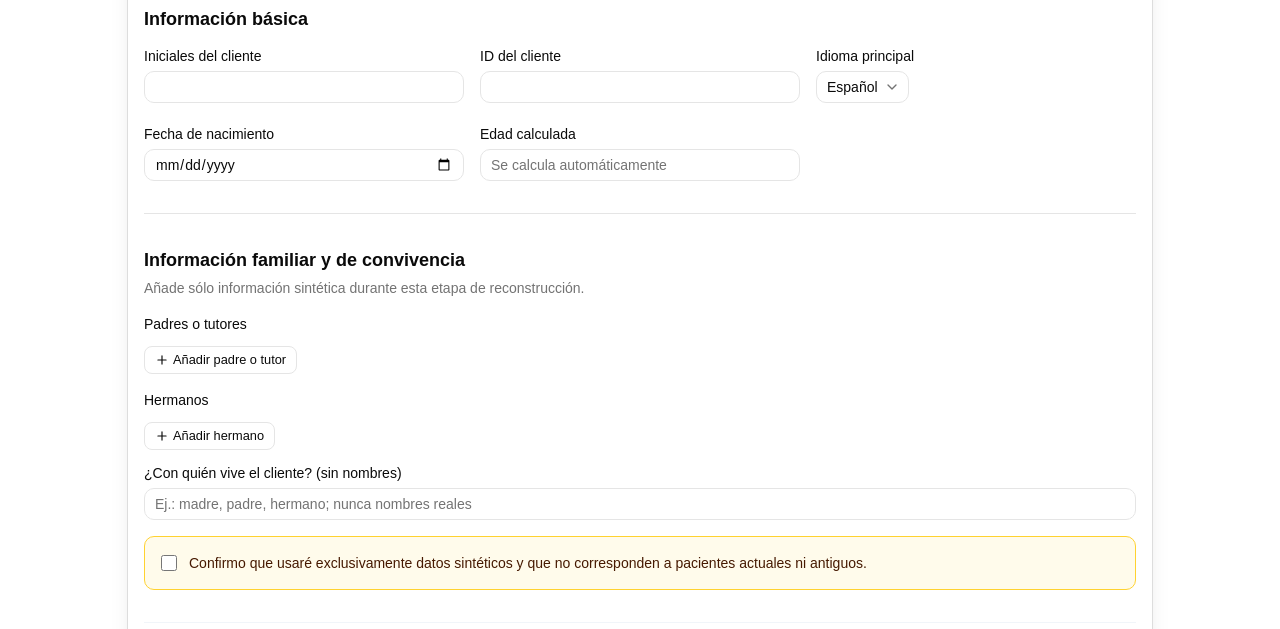
Test: ClientForm › añade tutores y hermanos sin reemplazar los existentes
Click the button "Añadir padre o tutor" at (221, 360), box [144,346,297,374]
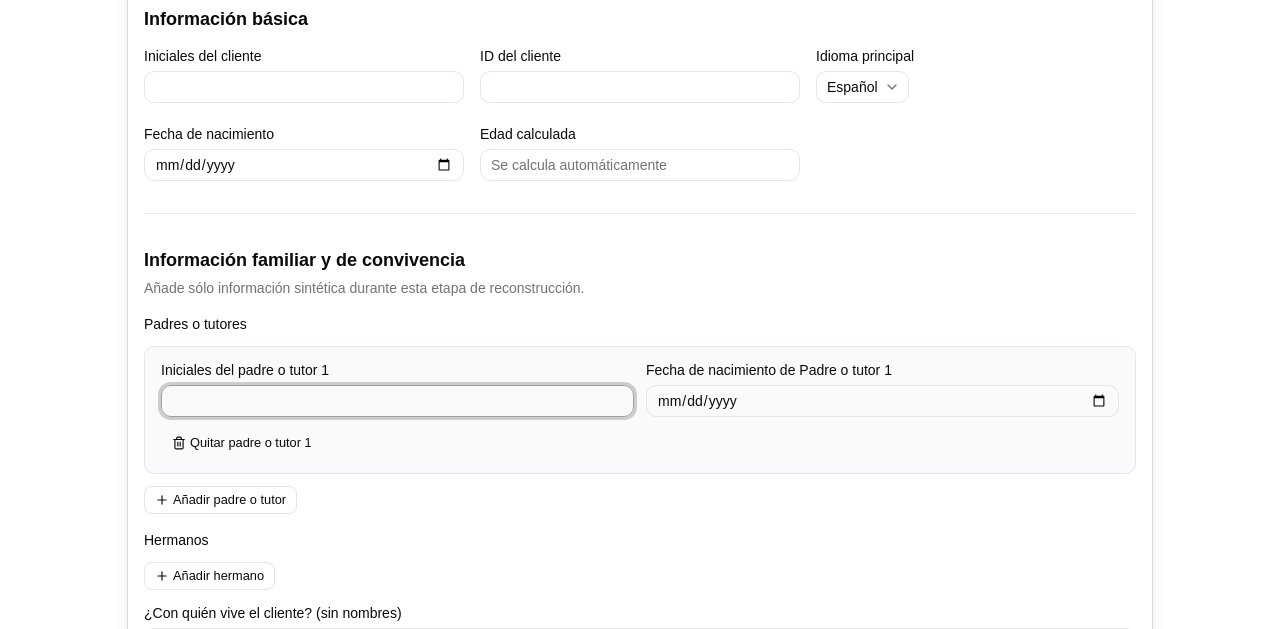
Click the button "Añadir padre o tutor" at (221, 500), box [144,486,297,514]
(page scrolled)
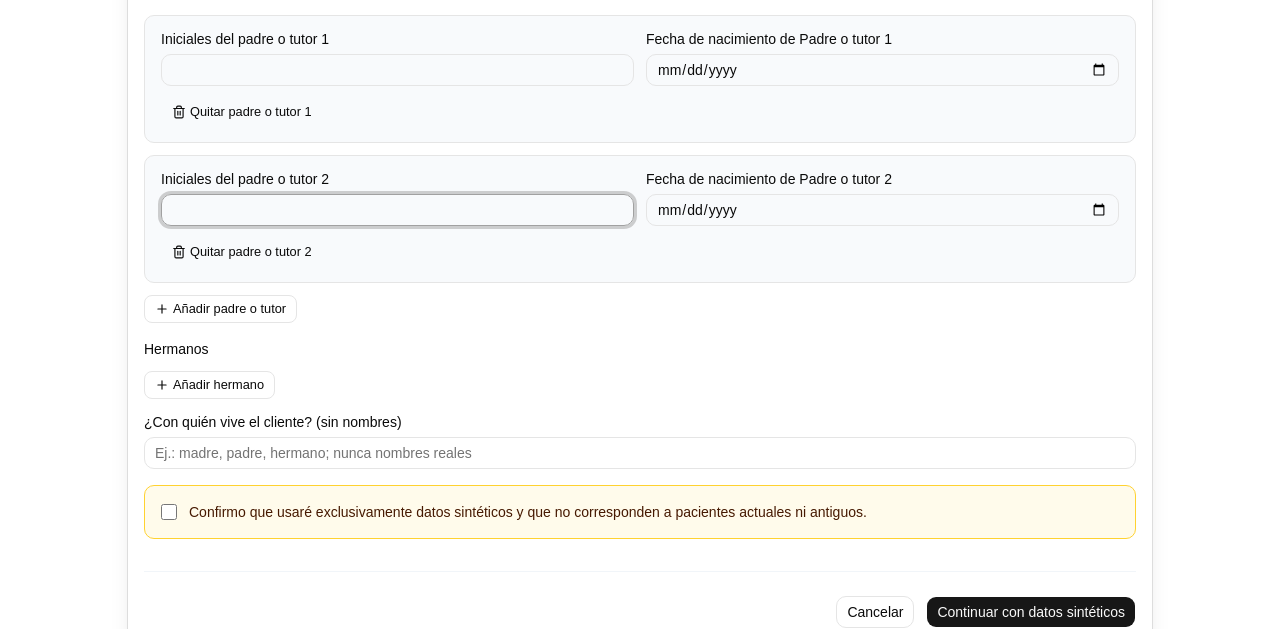
Click the button "Añadir hermano" at (210, 385), box [144,371,275,399]
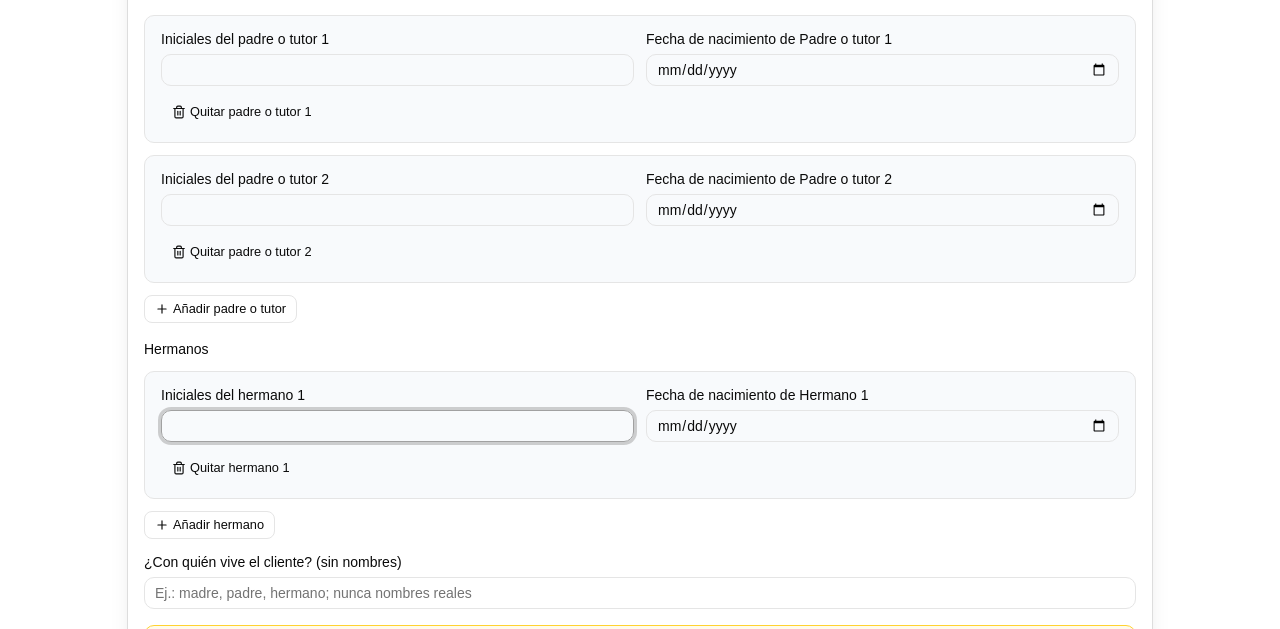
Expected: the number of fields labelled "Iniciales del hermano 1" is 1, [161,410,634,442]
Click the button "Quitar padre o tutor 1" at (242, 112), box [161,98,323,126]
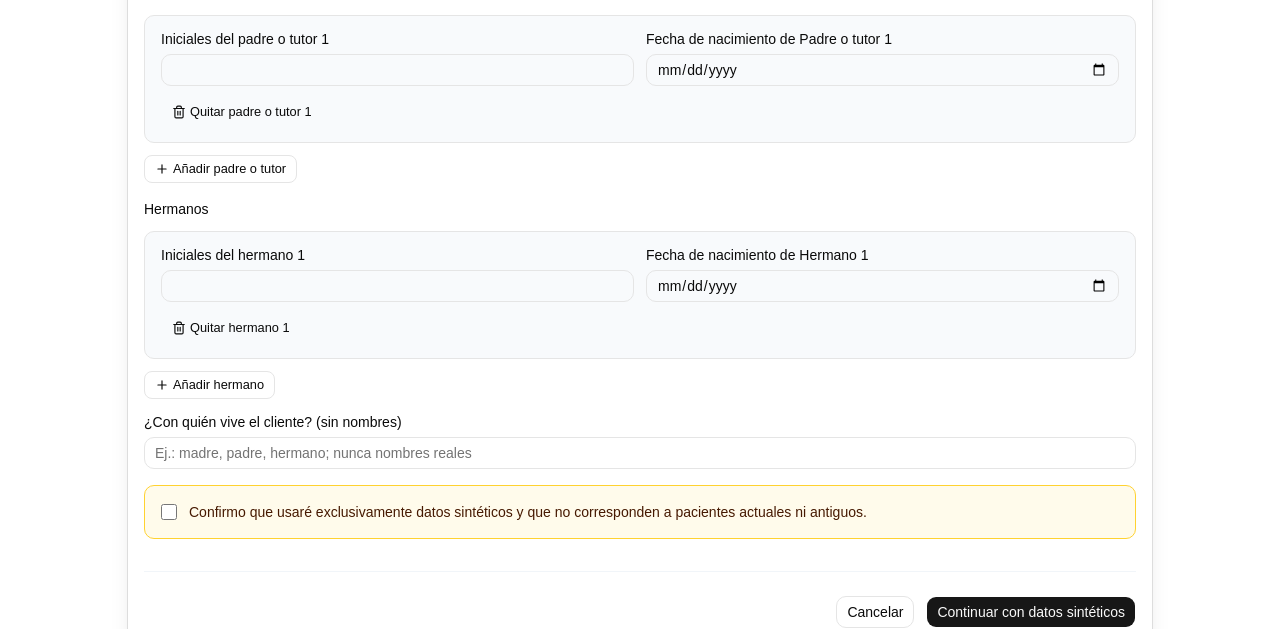
Click the button "Quitar hermano 1" at (231, 328), box [161,314,301,342]
(page scrolled)
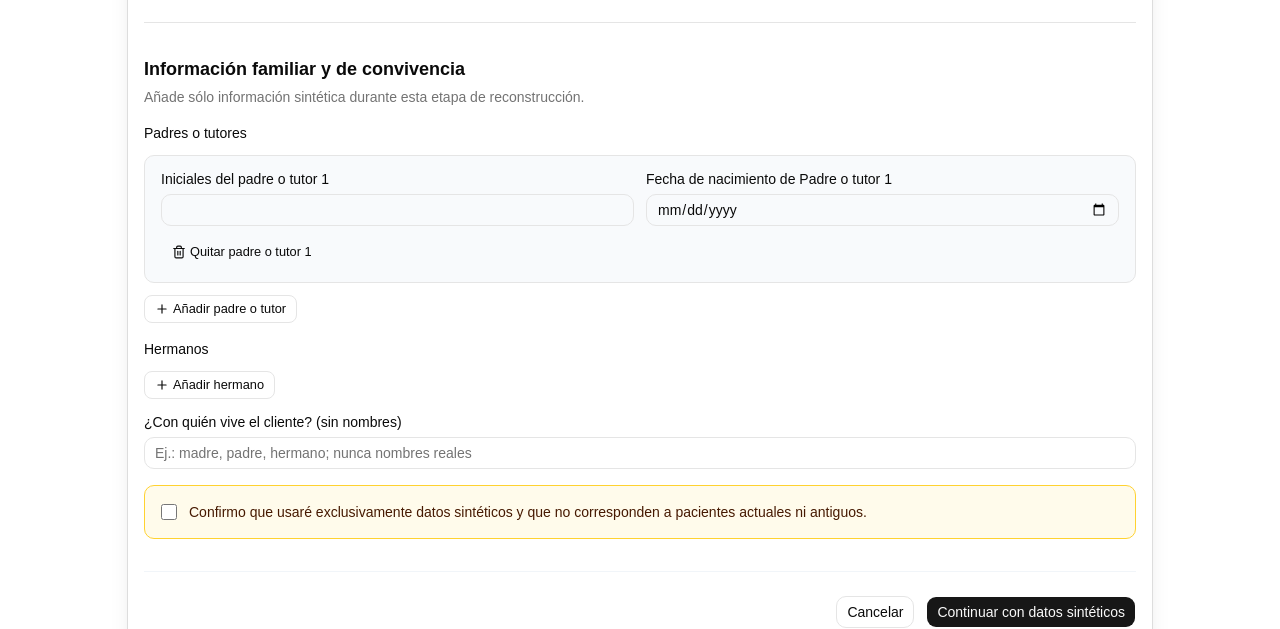
Expected: the label labelled "Iniciales del hermano" is gone
